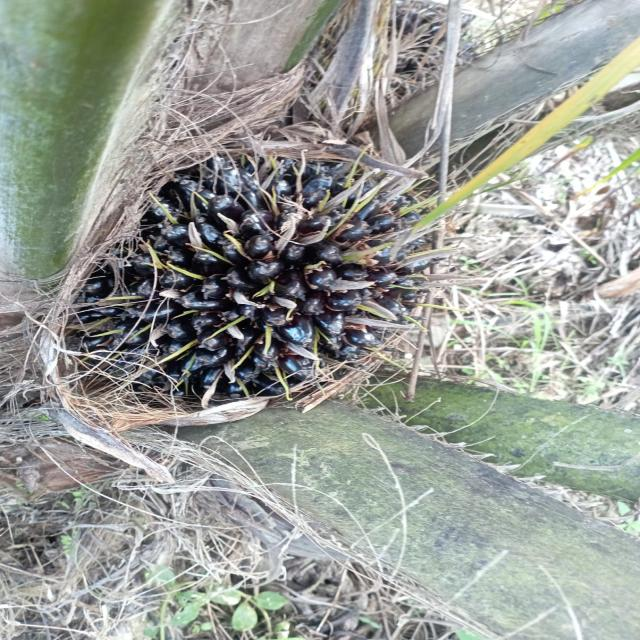fraksi 00: (33, 76, 490, 513)
